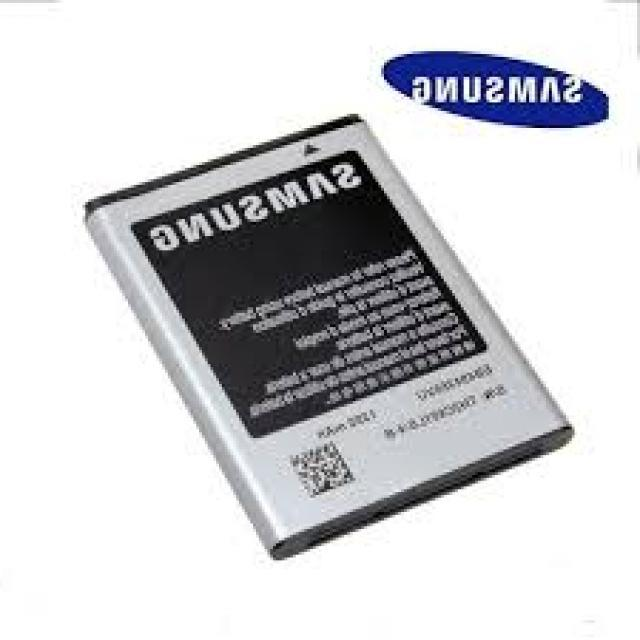battery: (85, 116, 575, 564)
